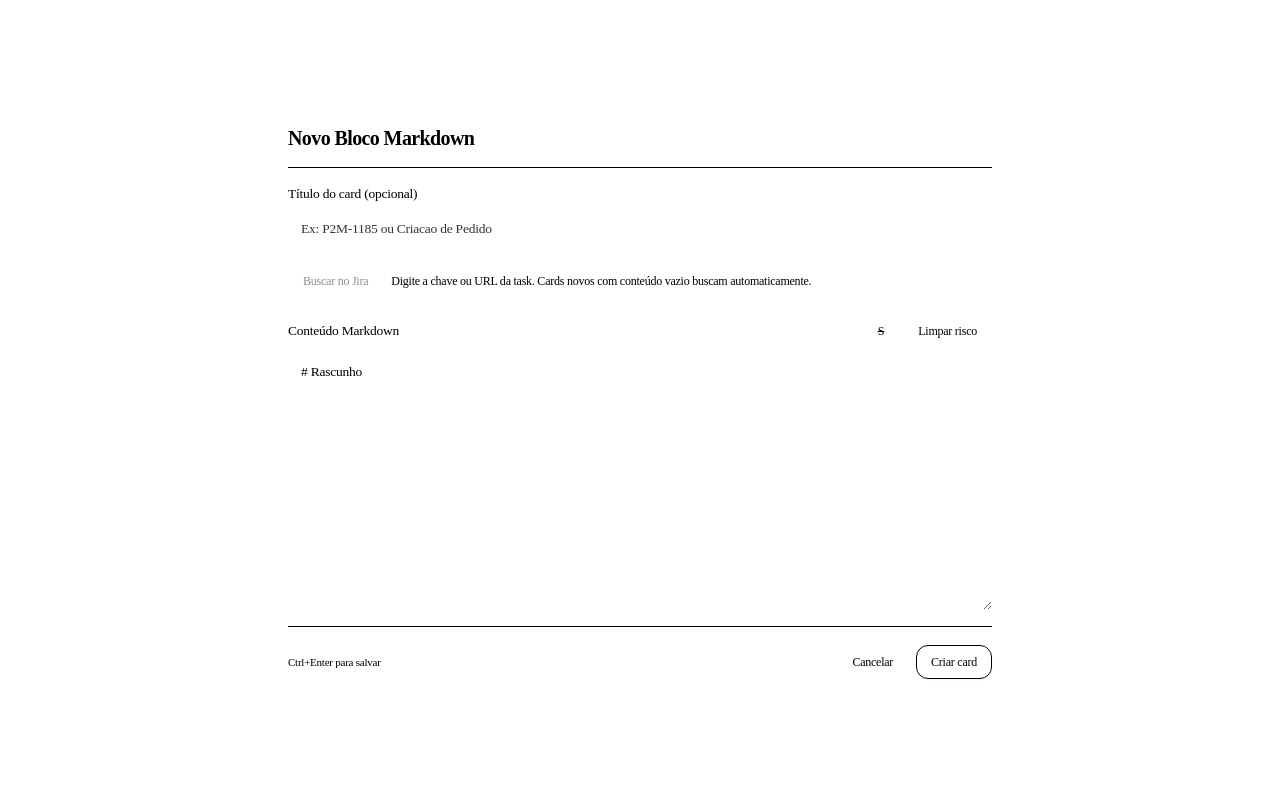
ciclo de edição do modal › preserva o rascunho quando o salvamento falha
Click the button "Criar card". click: (954, 662)
box: [916, 646, 992, 680]
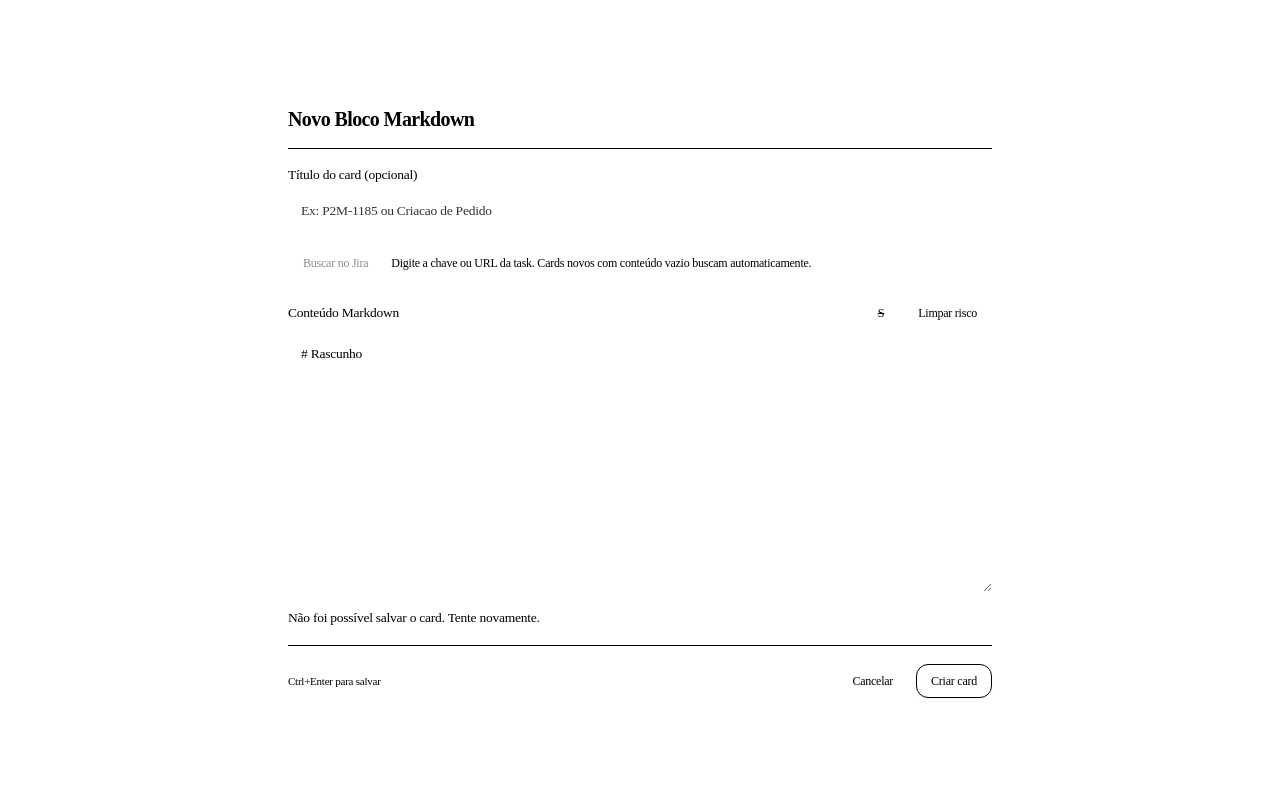
Expected: the text box labelled "Conteúdo Markdown" holds "# Rascunho", [288, 336, 992, 592]
Expected: the message "Não foi possível salvar o card. Tente novamente." is shown, [288, 610, 540, 625]
